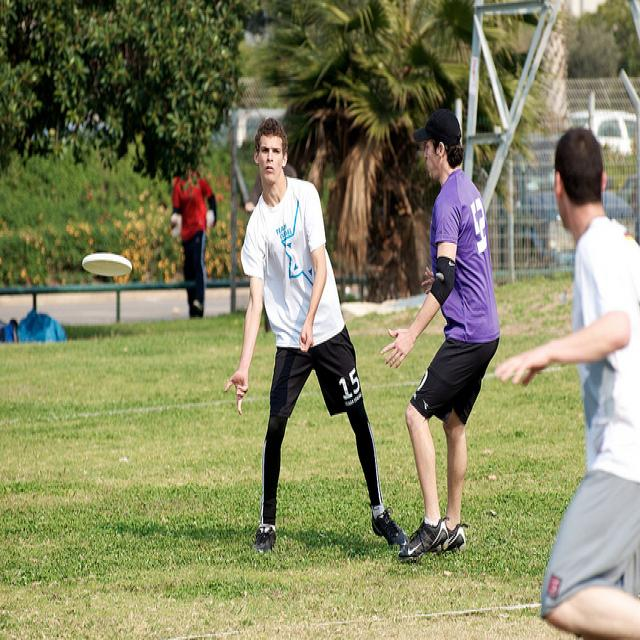Vehicle: (530, 218, 575, 270)
